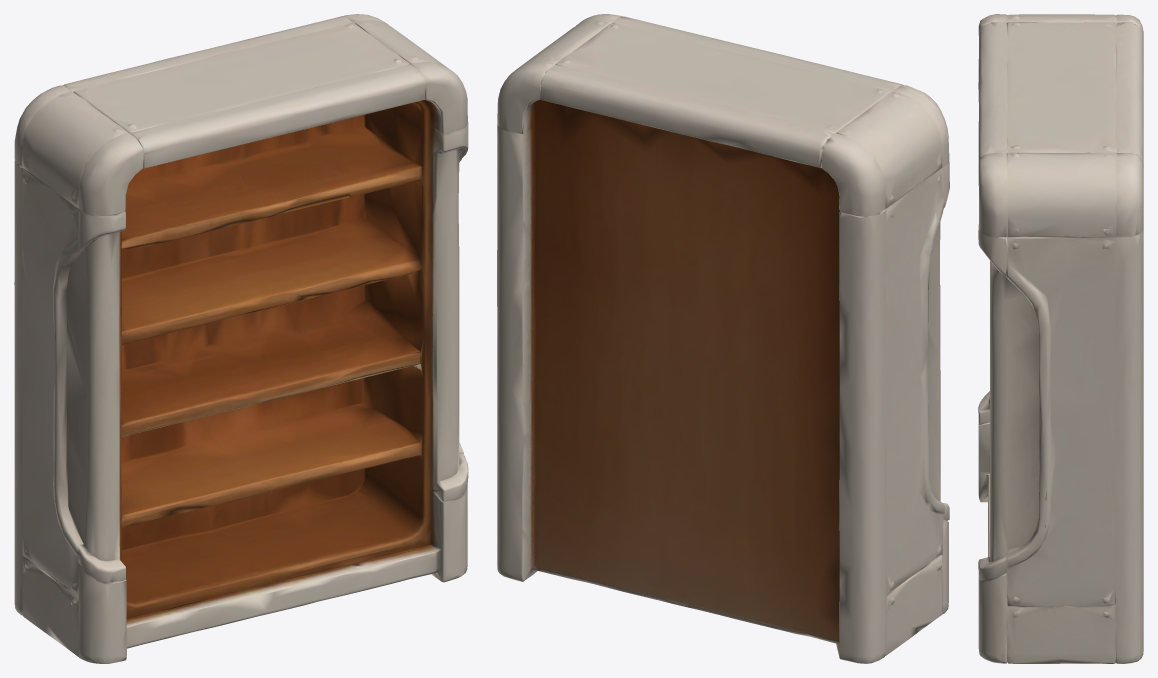
Rendered from shelf-unit.glb.
The picture shows the model from 3 angles, left to right: view 1: azimuth 30°, elevation 25°; view 2: azimuth 150°, elevation 25°; view 3: azimuth 270°, elevation 25°; orthographic projection. The views are drawn at different scales.
Parts seen in each view (by area): view 1: tripo_node_3a41620a-7556-42c1-9a89-9cbe06bd1a82; view 2: tripo_node_3a41620a-7556-42c1-9a89-9cbe06bd1a82; view 3: tripo_node_3a41620a-7556-42c1-9a89-9cbe06bd1a82.
Part boxes in pixels (bbox=[...]): tripo_node_3a41620a-7556-42c1-9a89-9cbe06bd1a82: bbox=[14, 14, 468, 663]; tripo_node_3a41620a-7556-42c1-9a89-9cbe06bd1a82: bbox=[497, 14, 949, 663]; tripo_node_3a41620a-7556-42c1-9a89-9cbe06bd1a82: bbox=[978, 14, 1143, 663].
Size of the model in its own units: 0.7793 by 0.9799 by 0.2991.
Materials: 1 (1 with a texture image).
